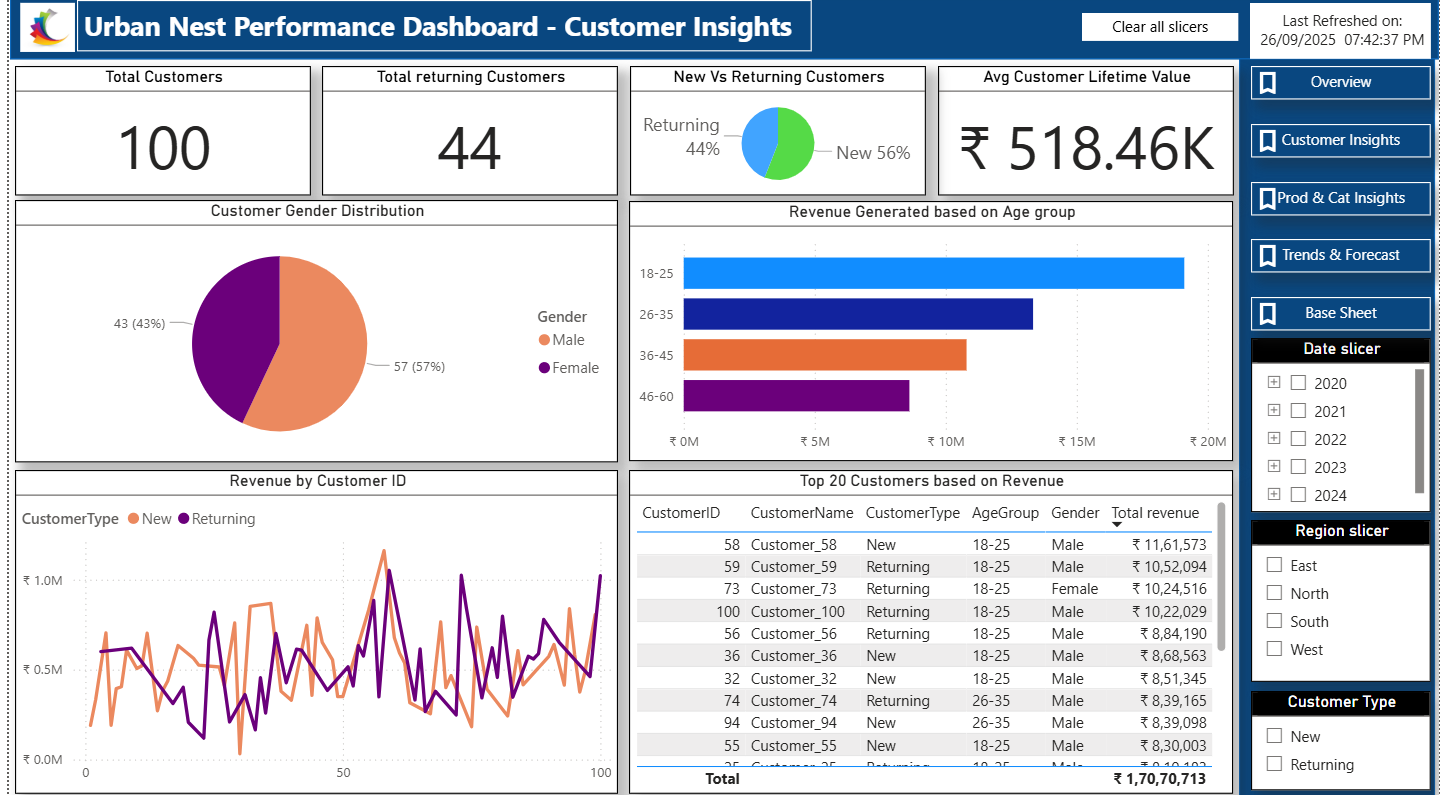

Layout of this report page (visuals, bound fields, positions):
{"tool":"powerbi","page":{"name":"Customer Insights","canvas":[1280,720],"ordinal":1},"visuals":[{"type":"group","id":"g1","title":"page1 layout","box":[0.5,0,1279.5,720],"z":0},{"type":"shape","box":[1100.9,0,175.6,720],"z":0,"group":"g1"},{"type":"card","title":"Total Customers ","fields":{"Values":["Measure table.total Cx"]},"box":[5,63.5,265.1,115.9],"z":1000},{"type":"slicer","title":"Date slicer","fields":{"Values":["Calendar table.Date Hierarchy.Year","Calendar table.Date Hierarchy.Quarter","Calendar table.Date Hierarchy.Month"]},"box":[1111.6,307,161,156],"z":1000,"group":"g1"},{"type":"card","title":"Total returning Customers ","fields":{"Values":["Measure table.Total returning cx"]},"box":[280.5,63.5,265.1,115.9],"z":2000},{"type":"slicer","title":"Region slicer","fields":{"Values":["Regions.RegionName"]},"box":[1111.6,470.5,161,145],"z":2000,"group":"g1"},{"type":"shape","box":[0.5,0,1279.5,57.6],"z":3000,"group":"g1"},{"type":"card","title":"Avg Customer Lifetime Value","fields":{"Values":["Measure table.avg clv"]},"box":[831.5,63.5,265.1,115.9],"z":3000},{"type":"pieChart","title":"New Vs Returning Customers","fields":{"Y":["Measure table.total Cx"],"Category":["Customers.CustomerType"]},"box":[556,63.5,265.1,115.9],"z":4000},{"type":"slicer","title":"Customer Type","fields":{"Values":["Customers.CustomerType"]},"box":[1111.6,623,161,89],"z":4000,"group":"g1"},{"type":"actionButton","title":"Overview","box":[1111.5,63.8,161.4,30.1],"z":5000,"group":"g1"},{"type":"pieChart","title":"Customer Gender Distribution","fields":{"Category":["Customers.Gender"],"Y":["Measure table.total Cx"]},"box":[5.4,183.6,540,234.6],"z":5000},{"type":"actionButton","title":"Overview","box":[1111.5,115.5,161,30.1],"z":6000,"group":"g1"},{"type":"barChart","title":"Revenue Generated based on Age group","fields":{"Category":["Customers.AgeGroup"],"Y":["Measure table.Total revenue"],"Series":["Customers.AgeGroup"]},"box":[555.4,184.4,541.3,233.2],"z":6000},{"type":"actionButton","title":"Overview","box":[1111.5,167.2,161.4,30],"z":7000,"group":"g1"},{"type":"lineChart","title":"Revenue by Customer ID","fields":{"Y":["Measure table.Total revenue"],"Category":["Customers.CustomerID"],"Series":["Customers.CustomerType"]},"box":[5.4,425.2,540.2,289.6],"z":7000},{"type":"actionButton","title":"Overview","box":[1111.5,218.8,161.4,30.1],"z":8000,"group":"g1"},{"type":"tableEx","title":"Top 20 Customers based on Revenue","fields":{"Values":["Customers.CustomerID","Customers.CustomerName","Customers.CustomerType","Customers.AgeGroup","Customers.Gender","Measure table.Total revenue"]},"box":[554.9,425.1,540.8,289.7],"z":8000},{"type":"actionButton","title":"Overview","box":[1111.5,270.4,161.4,30.1],"z":9000,"group":"g1"},{"type":"image","box":[7.6,0,53.2,57.6],"z":10000,"group":"g1"},{"type":"card","fields":{"Values":["Measure table.Last refresh"]},"box":[1110.7,7.5,161.8,49.8],"z":11000,"group":"g1"},{"type":"textbox","box":[60.1,4.5,658.2,45.7],"z":12000,"group":"g1"},{"type":"actionButton","box":[960.3,16,140.1,25.4],"z":13000,"group":"g1"}]}

Visuals, with their boxes on the page's 1280x720 design canvas (x1, y1, x2, y2). These are canvas units, not pixel positions in the 1440x795 screenshot, which may show the page scaled, cropped or inside an application window:
"page1 layout" group: <box>0,0,1280,720</box>
shape: <box>1101,0,1276,720</box>
"Total Customers " card: <box>5,64,270,179</box>
"Date slicer" slicer: <box>1112,307,1273,463</box>
"Total returning Customers " card: <box>280,64,546,179</box>
"Region slicer" slicer: <box>1112,470,1273,616</box>
shape: <box>0,0,1280,58</box>
"Avg Customer Lifetime Value" card: <box>832,64,1097,179</box>
"New Vs Returning Customers" pieChart: <box>556,64,821,179</box>
"Customer Type" slicer: <box>1112,623,1273,712</box>
"Overview" actionButton: <box>1112,64,1273,94</box>
"Customer Gender Distribution" pieChart: <box>5,184,545,418</box>
"Overview" actionButton: <box>1112,116,1272,146</box>
"Revenue Generated based on Age group" barChart: <box>555,184,1097,418</box>
"Overview" actionButton: <box>1112,167,1273,197</box>
"Revenue by Customer ID" lineChart: <box>5,425,546,715</box>
"Overview" actionButton: <box>1112,219,1273,249</box>
"Top 20 Customers based on Revenue" tableEx: <box>555,425,1096,715</box>
"Overview" actionButton: <box>1112,270,1273,300</box>
image: <box>8,0,61,58</box>
card - Measure table.Last refresh: <box>1111,8,1272,57</box>
textbox: <box>60,4,718,50</box>
actionButton: <box>960,16,1100,41</box>
